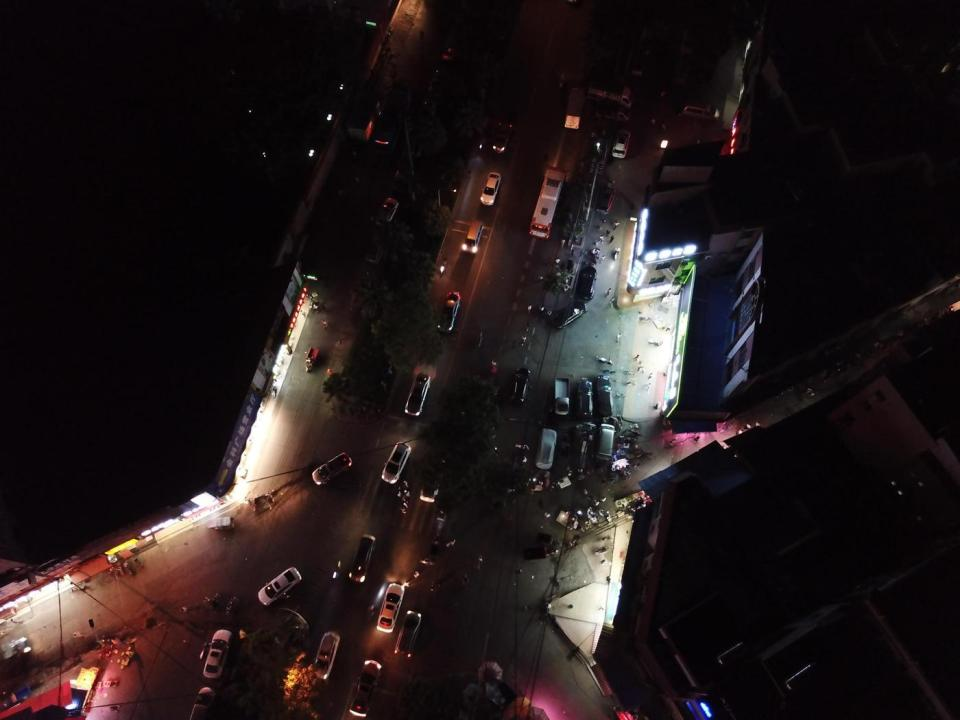bus: (530, 165, 566, 240)
car: (348, 660, 382, 717), (257, 566, 303, 606), (310, 630, 341, 682), (202, 629, 232, 679), (376, 582, 405, 633), (311, 451, 353, 486), (348, 534, 376, 584), (394, 610, 422, 660), (380, 441, 412, 484), (418, 455, 445, 504), (404, 372, 431, 417), (435, 290, 461, 334), (551, 300, 588, 328), (534, 428, 557, 470), (190, 686, 217, 720), (491, 118, 514, 155), (594, 375, 613, 417), (510, 368, 531, 404), (595, 182, 618, 214), (481, 172, 501, 207), (576, 380, 594, 418), (611, 129, 631, 159)
truck: (587, 80, 635, 109), (588, 99, 632, 123), (564, 86, 587, 130), (554, 377, 571, 415)
van: (679, 101, 720, 123), (594, 423, 616, 461), (462, 220, 484, 255)
